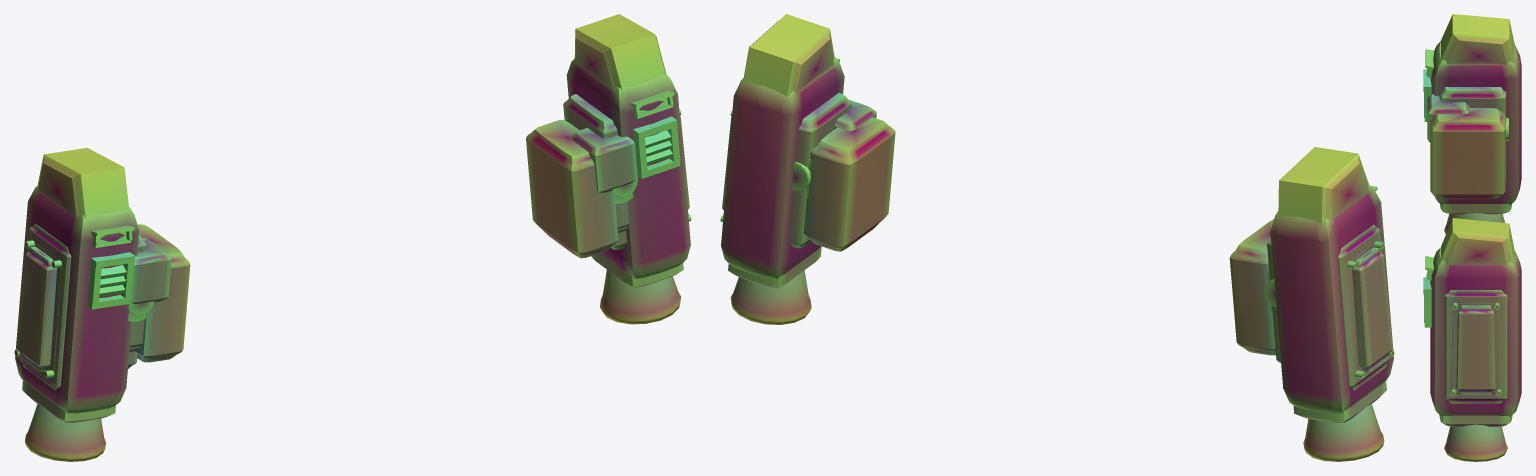
The model's file is llm_gen_leg_thrusters_111_8d9ad1.glb.
The picture shows the model from 3 angles, left to right: view 1: azimuth 30°, elevation 25°; view 2: azimuth 150°, elevation 25°; view 3: azimuth 270°, elevation 25°; orthographic projection. The views are drawn at different scales.
Visible parts, largest first — view 1: calf_thruster_hull_1_adapter_dark_l, calf_thruster_hull_1_adapter_dark_r, adapter_calf_clamp_r, nacelle_upper_cowl_2_gold_r, nacelle_upper_cowl_2_gold_l, nacelle_flank_armor_6_gold_l, adapter_calf_clamp_l, calf_main_bell_8_vernier_bell_vernier_l, calf_main_bell_8_vernier_bell_vernier_r, adapter_leg_knee_mount_dark_9_adapter_dark_r, adapter_sub_flank_frame_dark_5_adapter_dark_l, adapter_leg_knee_mount_dark_9_adapter_dark_l (+7 smaller); view 2: calf_thruster_hull_1_adapter_dark_l, calf_thruster_hull_1_adapter_dark_r, adapter_calf_clamp_r, nacelle_upper_cowl_2_gold_r, nacelle_upper_cowl_2_gold_l, nacelle_flank_armor_6_gold_l, adapter_calf_clamp_l, calf_main_bell_8_vernier_bell_vernier_l, calf_main_bell_8_vernier_bell_vernier_r, adapter_sub_tank_cradle_dark_0_adapter_dark_r, adapter_sub_flank_frame_dark_5_adapter_dark_l, adapter_sub_nozzle_shroud_dark_7_adapter_dark_l (+2 smaller); view 3: calf_thruster_hull_1_adapter_dark_r, adapter_calf_clamp_l, calf_thruster_hull_1_adapter_dark_l, nacelle_flank_armor_6_gold_r, nacelle_upper_cowl_2_gold_l, nacelle_upper_cowl_2_gold_r, adapter_sub_flank_frame_dark_5_adapter_dark_r, calf_main_bell_8_vernier_bell_vernier_r, adapter_sub_tank_cradle_dark_0_adapter_dark_l, adapter_sub_nozzle_shroud_dark_7_adapter_dark_r, adapter_leg_knee_mount_dark_9_adapter_dark_l, adapter_sub_nozzle_shroud_dark_7_adapter_dark_l (+5 smaller).
Boxes of the visible parts, <box> form: calf_thruster_hull_1_adapter_dark_l: <box>15,185,139,413</box>; calf_thruster_hull_1_adapter_dark_r: <box>566,58,690,278</box>; adapter_calf_clamp_r: <box>526,119,632,258</box>; nacelle_upper_cowl_2_gold_r: <box>574,14,666,90</box>; nacelle_upper_cowl_2_gold_l: <box>37,147,129,218</box>; nacelle_flank_armor_6_gold_l: <box>14,240,62,378</box>; adapter_calf_clamp_l: <box>128,224,190,362</box>; calf_main_bell_8_vernier_bell_vernier_l: <box>25,403,105,461</box>; calf_main_bell_8_vernier_bell_vernier_r: <box>600,270,680,324</box>; adapter_leg_knee_mount_dark_9_adapter_dark_r: <box>570,128,637,193</box>; adapter_sub_flank_frame_dark_5_adapter_dark_l: <box>18,223,71,390</box>; adapter_leg_knee_mount_dark_9_adapter_dark_l: <box>131,237,171,303</box>; calf_thruster_hull_1_adapter_dark_l: <box>1270,184,1393,413</box>; calf_thruster_hull_1_adapter_dark_r: <box>721,58,844,279</box>; adapter_calf_clamp_r: <box>803,117,895,251</box>; nacelle_upper_cowl_2_gold_r: <box>742,14,834,97</box>; nacelle_upper_cowl_2_gold_l: <box>1278,147,1369,226</box>; nacelle_flank_armor_6_gold_l: <box>1347,241,1394,378</box>; adapter_calf_clamp_l: <box>1229,219,1275,355</box>; calf_main_bell_8_vernier_bell_vernier_l: <box>1303,404,1384,461</box>; calf_main_bell_8_vernier_bell_vernier_r: <box>730,270,811,324</box>; adapter_sub_tank_cradle_dark_0_adapter_dark_r: <box>789,92,851,248</box>; adapter_sub_flank_frame_dark_5_adapter_dark_l: <box>1338,224,1390,390</box>; adapter_sub_nozzle_shroud_dark_7_adapter_dark_l: <box>1293,380,1386,422</box>; calf_thruster_hull_1_adapter_dark_r: <box>1430,247,1521,416</box>; adapter_calf_clamp_l: <box>1430,108,1505,199</box>; calf_thruster_hull_1_adapter_dark_l: <box>1430,41,1521,204</box>; nacelle_flank_armor_6_gold_r: <box>1450,303,1501,395</box>; nacelle_upper_cowl_2_gold_l: <box>1440,14,1514,64</box>; nacelle_upper_cowl_2_gold_r: <box>1440,218,1514,265</box>; adapter_sub_flank_frame_dark_5_adapter_dark_r: <box>1444,290,1507,403</box>; calf_main_bell_8_vernier_bell_vernier_r: <box>1444,424,1507,461</box>; adapter_sub_tank_cradle_dark_0_adapter_dark_l: <box>1439,87,1506,181</box>; adapter_sub_nozzle_shroud_dark_7_adapter_dark_r: <box>1439,415,1512,426</box>; adapter_leg_knee_mount_dark_9_adapter_dark_l: <box>1427,94,1469,142</box>; adapter_sub_nozzle_shroud_dark_7_adapter_dark_l: <box>1440,204,1511,214</box>.
Bounding box in the file's own units: 85.13 × 35.8 × 14.33.
